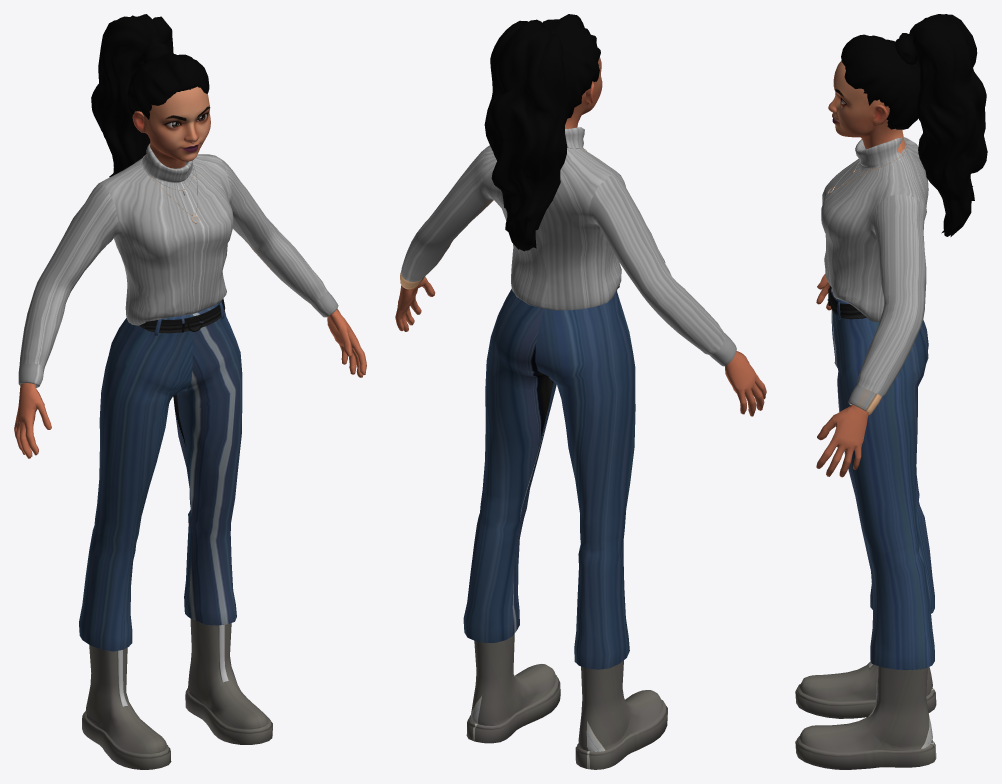
The model's file is Character.fbx.
3 renders of one model, left to right at view 1: azimuth 30°, elevation 25°; view 2: azimuth 150°, elevation 25°; view 3: azimuth 270°, elevation 25°, orthographic. The views are drawn at different scales.
Parts seen in each view (by area): view 1: Wolf3D_Outfit_Bottom, Wolf3D_Outfit_Top, Wolf3D_Outfit_Footwear, Wolf3D_Hair, Wolf3D_Head, Wolf3D_Body; view 2: Wolf3D_Outfit_Bottom, Wolf3D_Outfit_Top, Wolf3D_Hair, Wolf3D_Outfit_Footwear, Wolf3D_Body, Wolf3D_Head; view 3: Wolf3D_Outfit_Bottom, Wolf3D_Outfit_Top, Wolf3D_Hair, Wolf3D_Outfit_Footwear, Wolf3D_Head, Wolf3D_Body.
Boxes of the visible parts, x1=… form: Wolf3D_Outfit_Bottom: x1=79, y1=298, x2=242, y2=651; Wolf3D_Outfit_Top: x1=18, y1=143, x2=338, y2=387; Wolf3D_Outfit_Footwear: x1=82, y1=618, x2=272, y2=769; Wolf3D_Hair: x1=91, y1=14, x2=209, y2=177; Wolf3D_Head: x1=132, y1=86, x2=210, y2=168; Wolf3D_Body: x1=14, y1=309, x2=366, y2=458; Wolf3D_Outfit_Bottom: x1=463, y1=285, x2=635, y2=669; Wolf3D_Outfit_Top: x1=400, y1=127, x2=736, y2=366; Wolf3D_Hair: x1=484, y1=14, x2=600, y2=251; Wolf3D_Outfit_Footwear: x1=466, y1=634, x2=667, y2=769; Wolf3D_Body: x1=395, y1=276, x2=766, y2=416; Wolf3D_Head: x1=565, y1=57, x2=602, y2=128; Wolf3D_Outfit_Bottom: x1=827, y1=285, x2=934, y2=669; Wolf3D_Outfit_Top: x1=821, y1=136, x2=928, y2=414; Wolf3D_Hair: x1=841, y1=14, x2=987, y2=236; Wolf3D_Outfit_Footwear: x1=795, y1=661, x2=936, y2=769; Wolf3D_Head: x1=828, y1=60, x2=905, y2=153; Wolf3D_Body: x1=816, y1=273, x2=868, y2=477.
Bounding box in the file's own units: 0.9279 × 1.81 × 0.4397.
8 materials, 8 textured.
